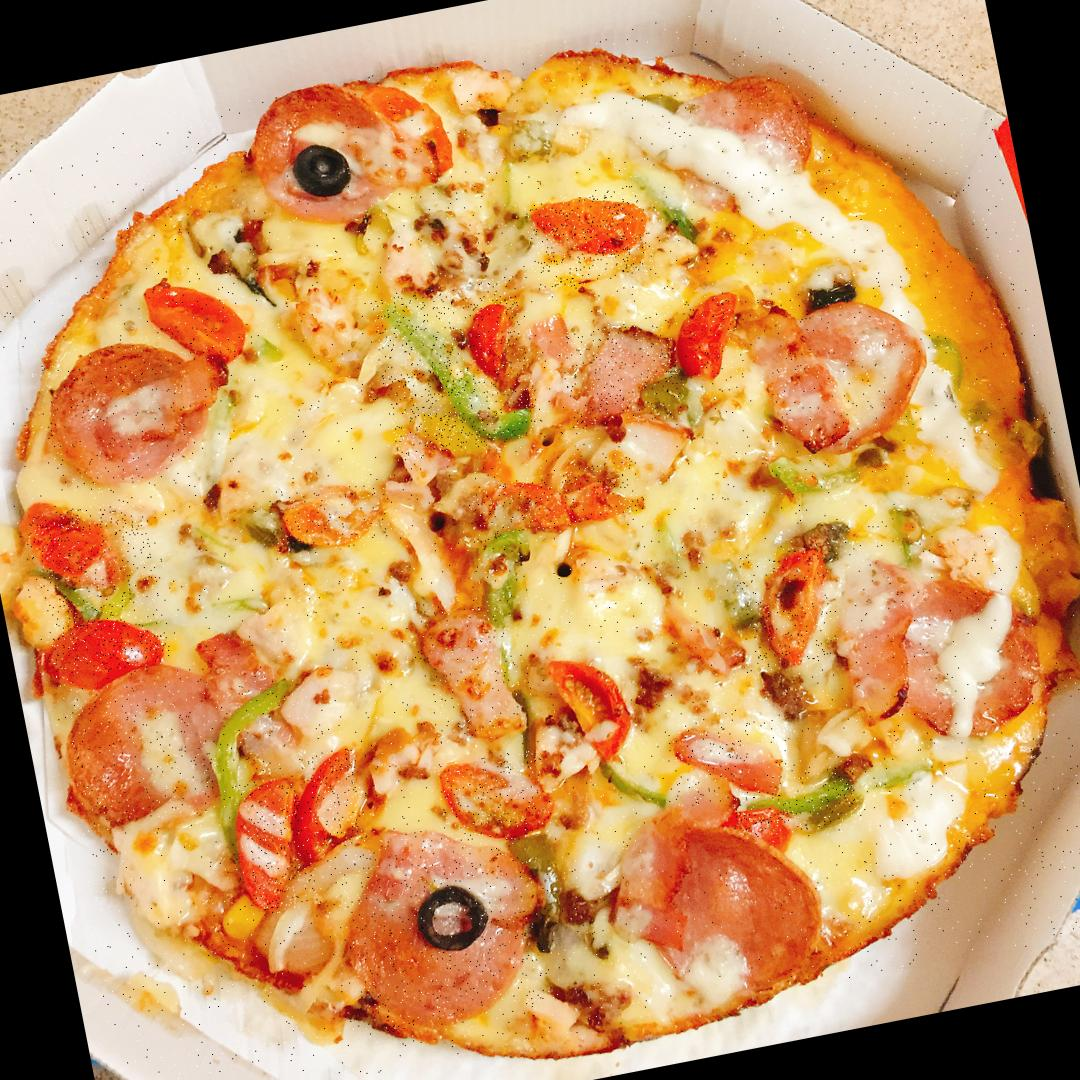Olives: (416, 877, 490, 957), (292, 140, 357, 197)
Pepperoni: (332, 812, 556, 1036), (636, 790, 838, 1027), (854, 543, 1060, 770), (752, 266, 926, 457), (32, 330, 202, 504), (61, 667, 233, 835), (250, 78, 409, 231), (697, 59, 822, 205), (412, 591, 528, 745), (554, 314, 686, 436)
Peppers: (368, 275, 544, 463), (731, 759, 864, 843), (202, 673, 298, 781), (466, 526, 534, 634)
Pizza: (0, 0, 1080, 1080)
Tomatoes: (25, 496, 173, 682), (464, 457, 646, 543), (130, 254, 254, 380), (522, 183, 659, 294), (662, 701, 800, 810), (736, 542, 841, 674), (544, 639, 642, 771), (434, 747, 556, 853), (236, 774, 321, 917), (268, 472, 396, 562), (300, 746, 373, 852), (681, 286, 749, 397), (462, 304, 526, 389)
